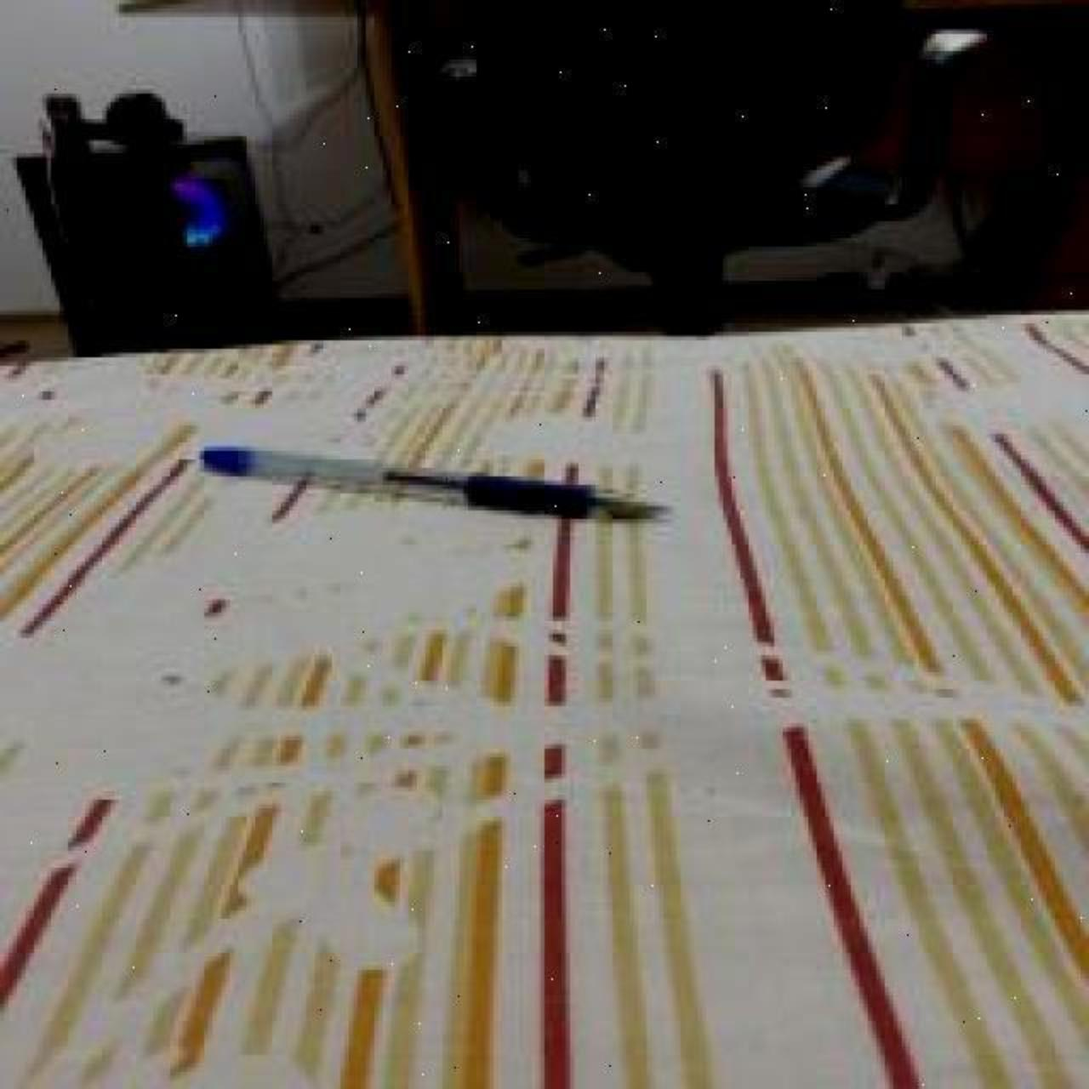pen: (196, 448, 672, 524)
